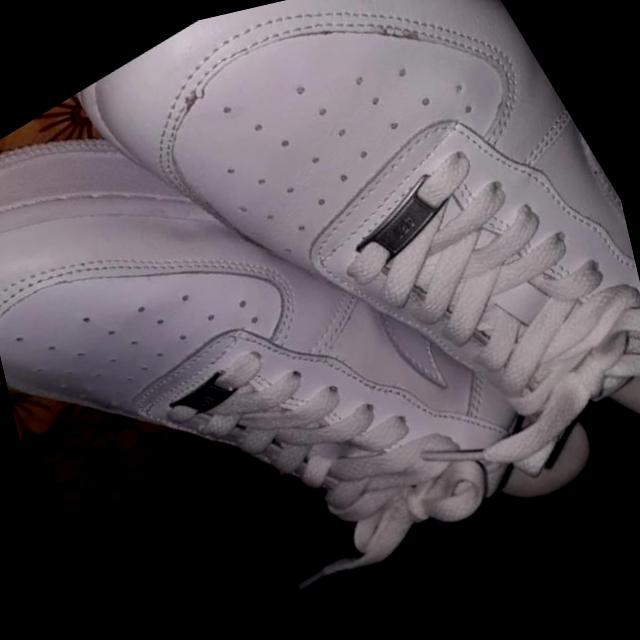nike_fake_airforce: (0, 0, 636, 640), (68, 0, 640, 636)
